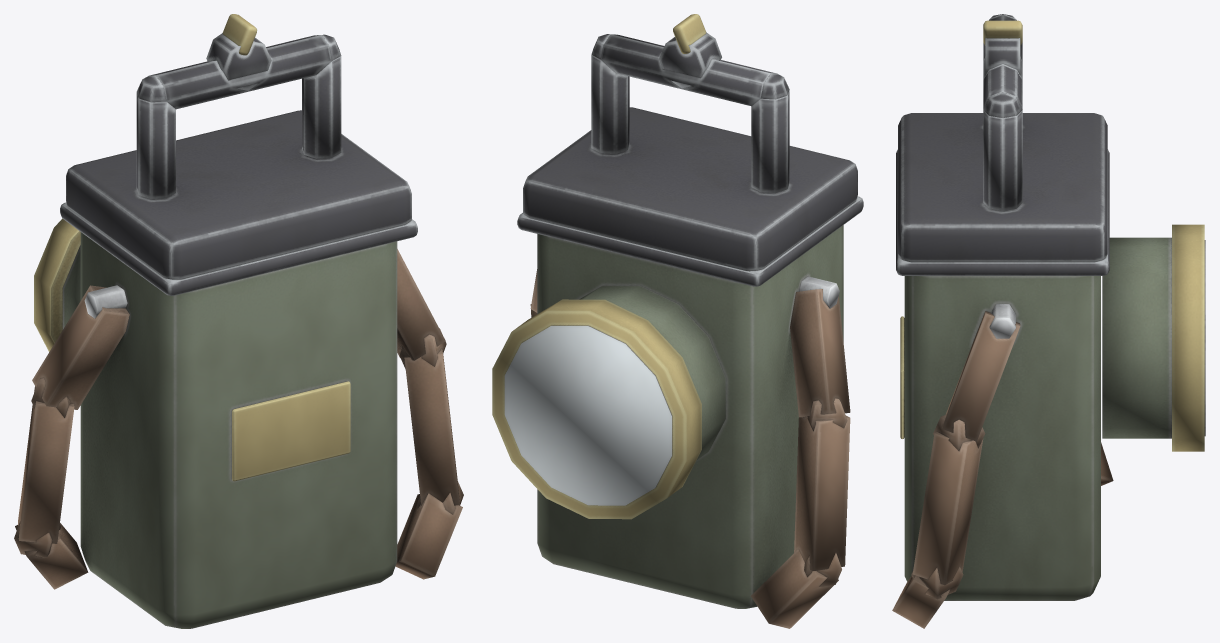
The model's file is fas4_lantern.glb.
3 views of the same model, side by side, from view 1: azimuth 30°, elevation 25°; view 2: azimuth 150°, elevation 25°; view 3: azimuth 270°, elevation 25° (orthographic). The views are drawn at different scales.
Visible parts, largest first — view 1: fas4_lantern; view 2: fas4_lantern; view 3: fas4_lantern.
Part boxes in pixels (bbox=[...]): fas4_lantern: bbox=[14, 14, 463, 628]; fas4_lantern: bbox=[492, 14, 863, 628]; fas4_lantern: bbox=[892, 14, 1205, 628].
Bounding box in the file's own units: 0.194 × 0.2738 × 0.1437.
Materials: 1 (1 with a texture image).
